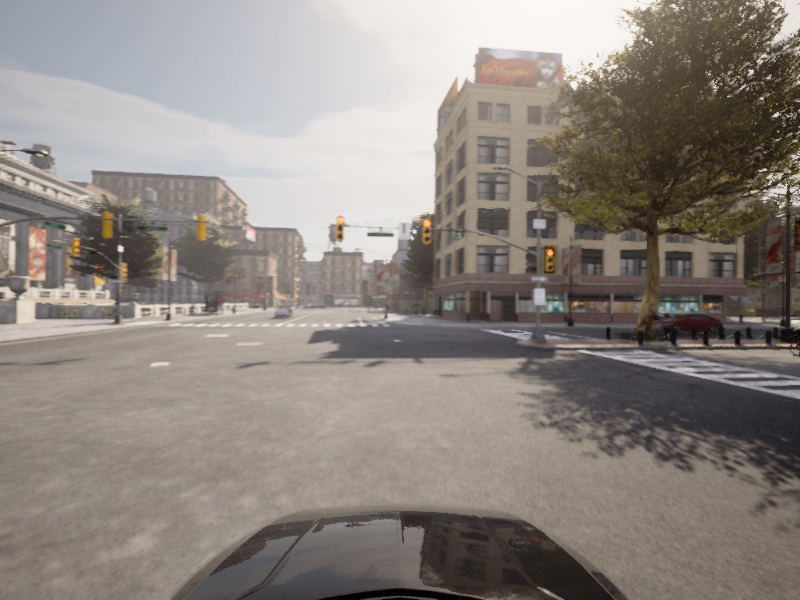vehicle: (646, 312, 727, 334), (782, 315, 799, 357), (272, 305, 294, 318)
